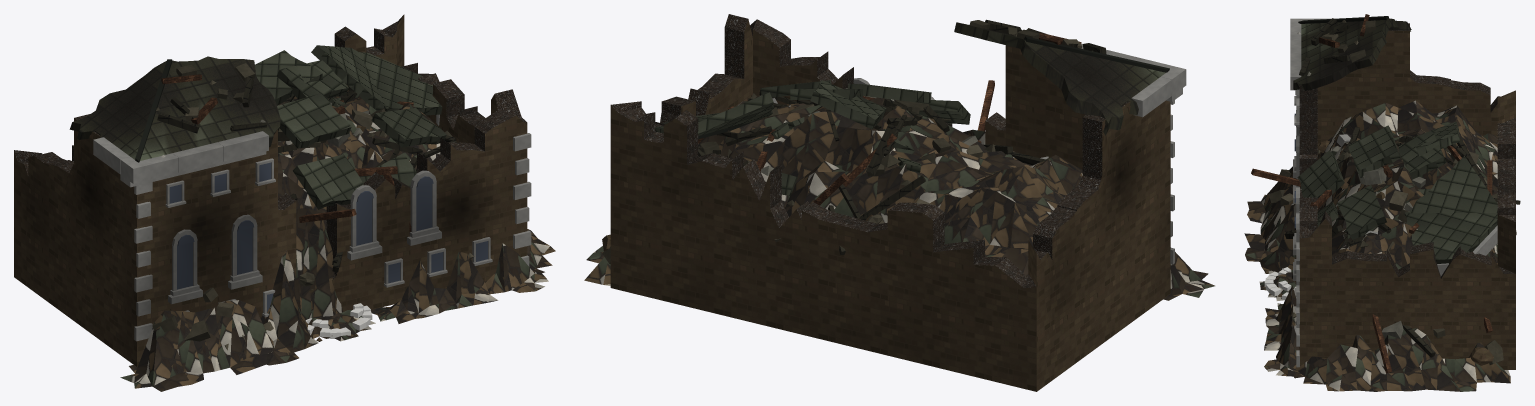
The model's file is CreBuild08b.glb.
The picture shows the model from 3 angles, left to right: view 1: azimuth 30°, elevation 25°; view 2: azimuth 150°, elevation 25°; view 3: azimuth 270°, elevation 25°; orthographic projection. The views are drawn at different scales.
Visible parts, largest first — view 1: CreBuild08b_wall; view 2: CreBuild08b_wall; view 3: CreBuild08b_wall.
Part boxes in pixels (x1,y1,x2,y2): CreBuild08b_wall: [14, 14, 555, 391]; CreBuild08b_wall: [584, 14, 1214, 391]; CreBuild08b_wall: [1244, 14, 1520, 391].
Bounding box in the file's own units: 15.36 × 8.11 × 9.09.
15 materials, 13 textured.
